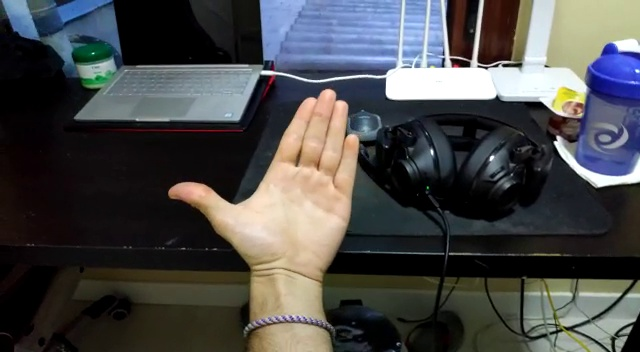Palm: (164, 88, 363, 280)
